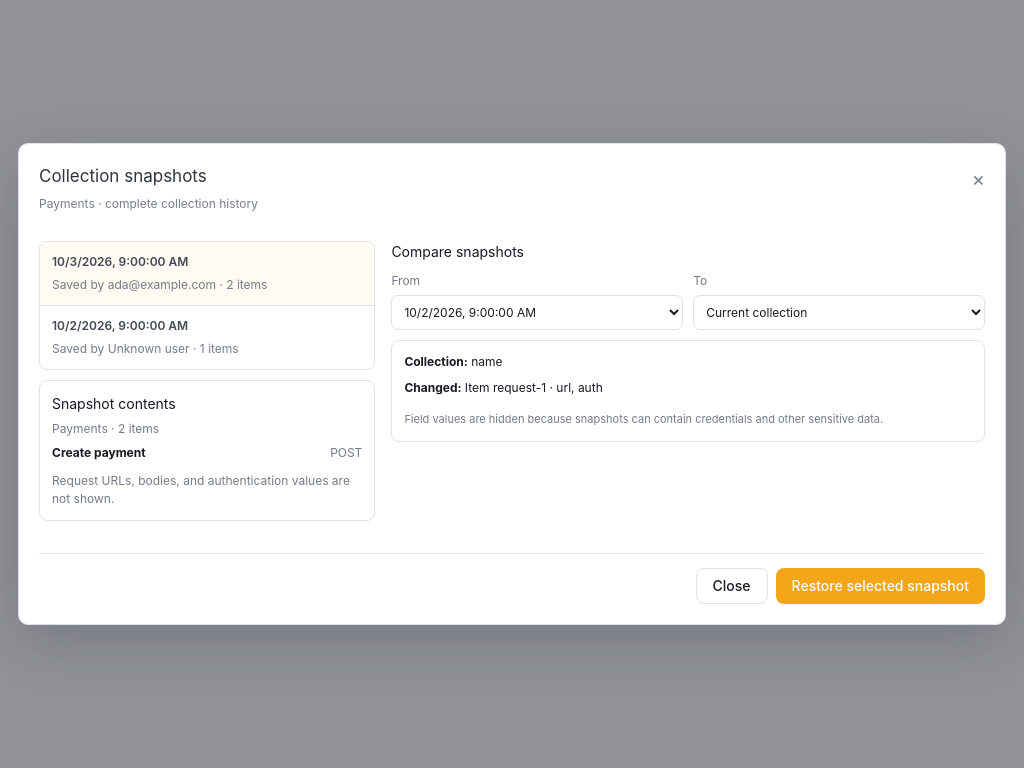
Test case: collection snapshots dialog › shows backend conflicts without treating restore as successful
Click the button "Restore selected snapshot". click: [880, 586]
box: [776, 568, 985, 604]
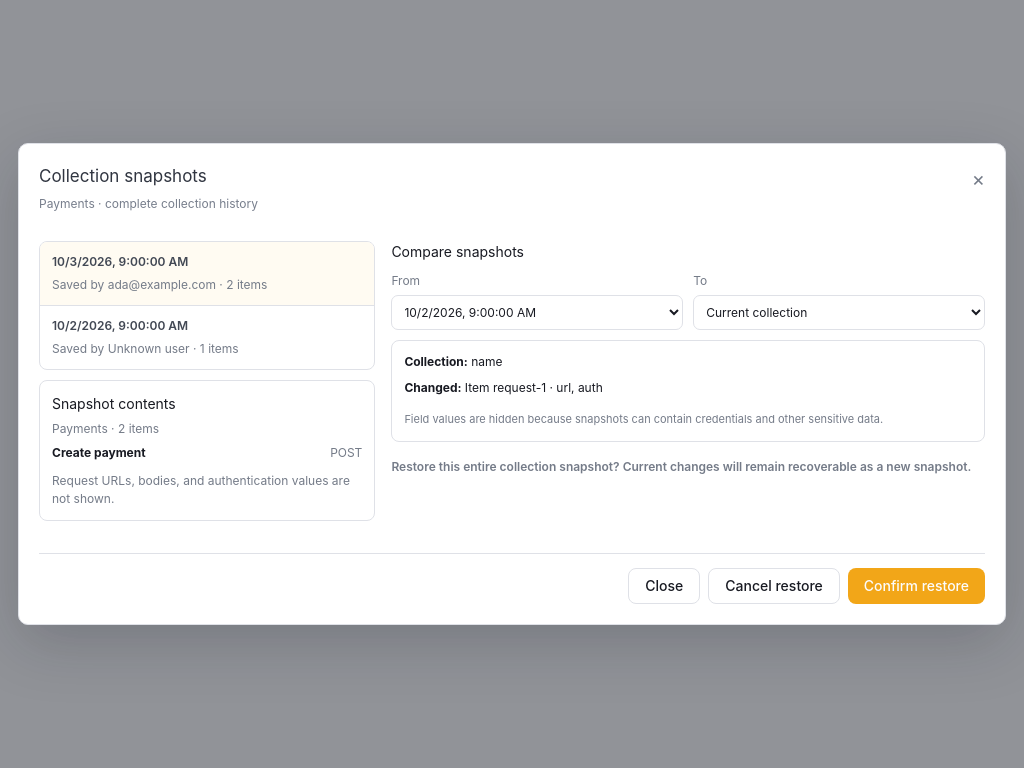
Click the button "Confirm restore". click: [916, 586]
box: [848, 568, 985, 604]
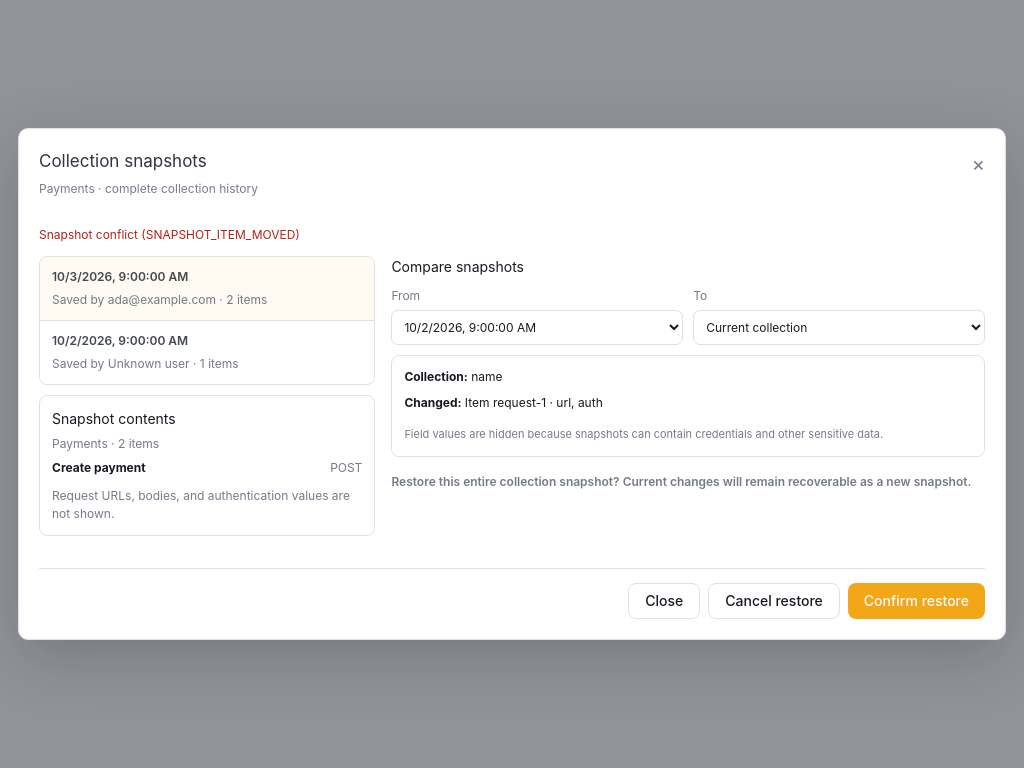
Expected: the text "Snapshot conflict (SNAPSHOT_ITEM_MOVED)" is shown, [39, 227, 300, 242]
